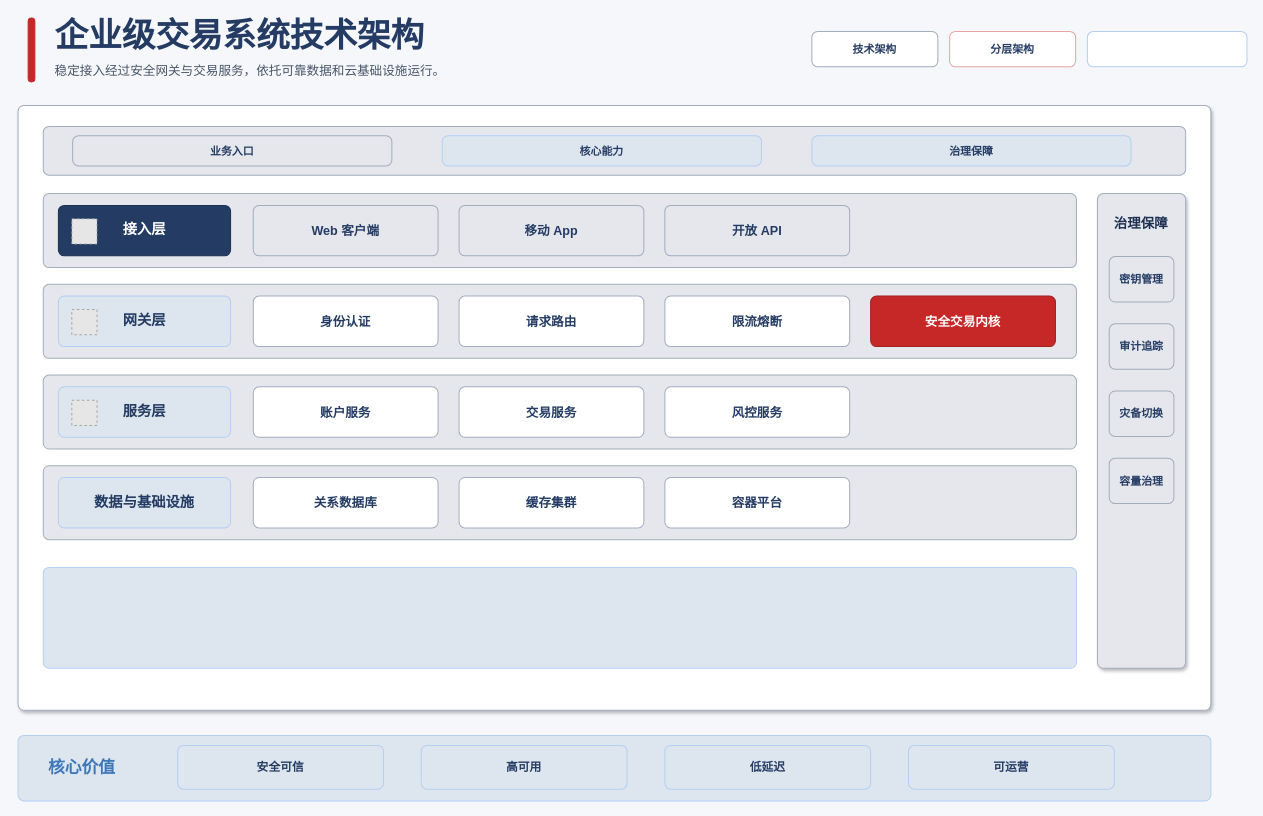
Image size: 1263x816. Some labels were removed from this diagram. Grey dashed boxes stand in for pictures. Here are the shapes that lost their labels. From the top down, the centre of each, then its label:
At point 1166,49: "Steady Red & Blue".
At point 559,617: "稳定接入经过安全网关与交易服务，依托可靠数据和云基础设施运行。 架构能力形成统一承载、弹性扩展与闭环治理".
